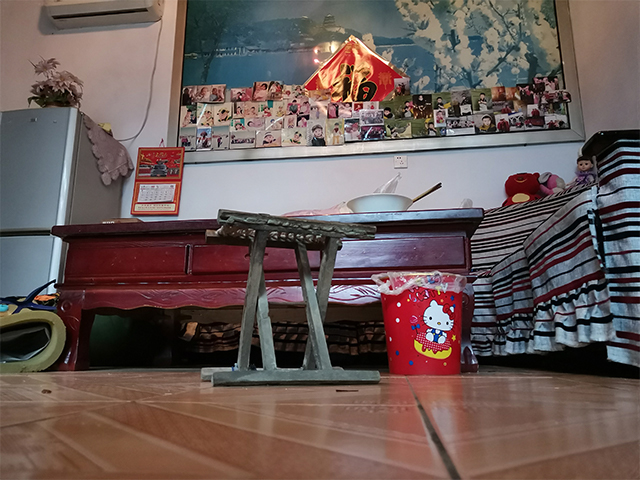sofa: (467, 134, 640, 377)
stool: (198, 206, 382, 389)
table: (42, 205, 486, 373)
trashcan: (369, 268, 470, 377)
